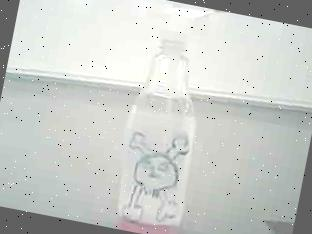hazard: (98, 0, 242, 234)
